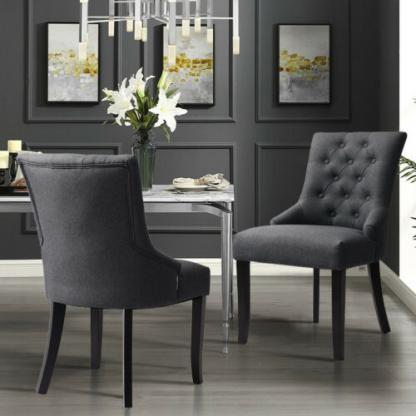chair: (14, 143, 211, 408), (234, 122, 416, 367)
table: (0, 171, 246, 357)
